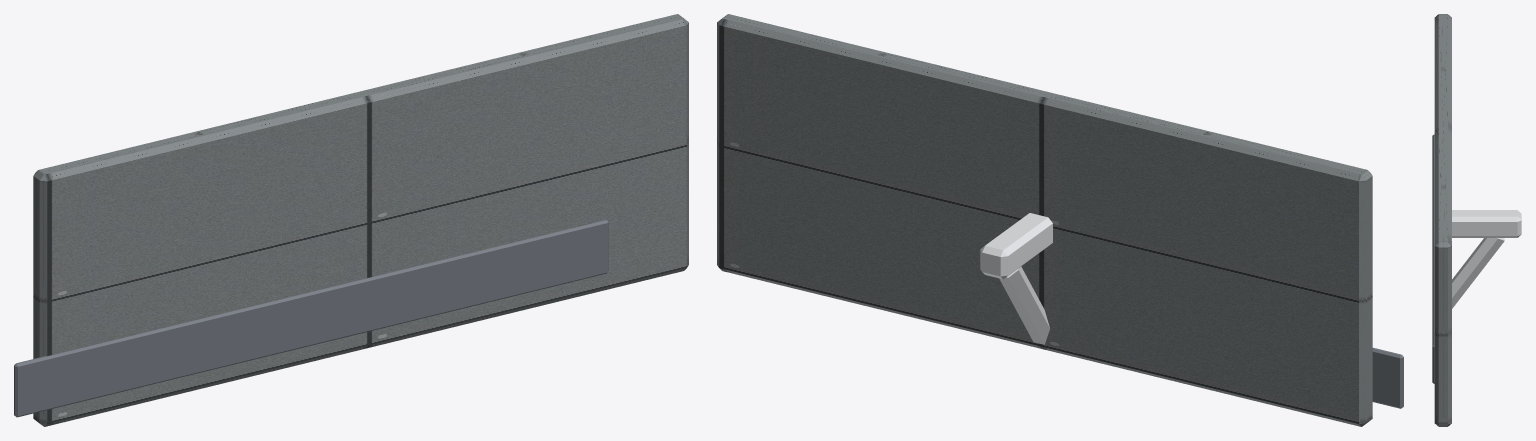
The model's file is japanese-school-and-city-street-class-sign-c7556432__30092.glb.
The picture shows the model from 3 angles, left to right: view 1: azimuth 30°, elevation 25°; view 2: azimuth 150°, elevation 25°; view 3: azimuth 270°, elevation 25°; orthographic projection. The views are drawn at different scales.
Parts seen in each view (by area): view 1: class-sign; view 2: class-sign; view 3: class-sign.
Boxes of the visible parts, <box> form: class-sign: <box>14,14,688,426</box>; class-sign: <box>717,14,1403,426</box>; class-sign: <box>1432,14,1521,426</box>.
Bounding box in the file's own units: 0.73 × 0.26 × 0.114.
3 materials, 1 textured.
